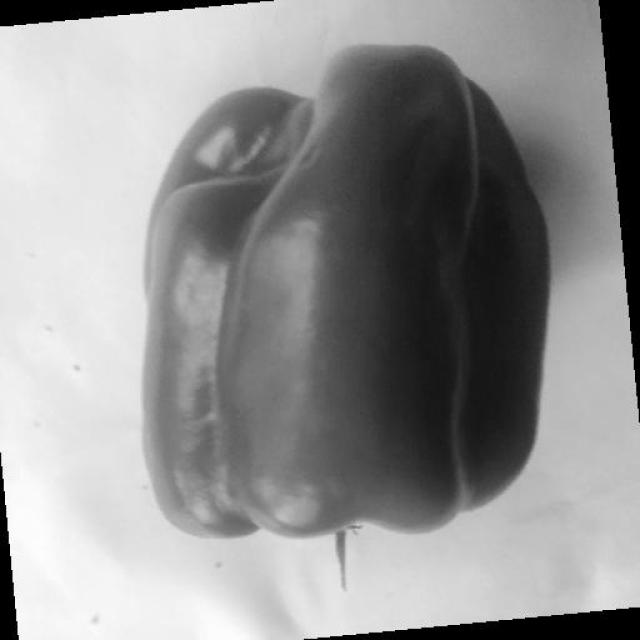Fresh_Capsicum: (135, 71, 587, 552)
